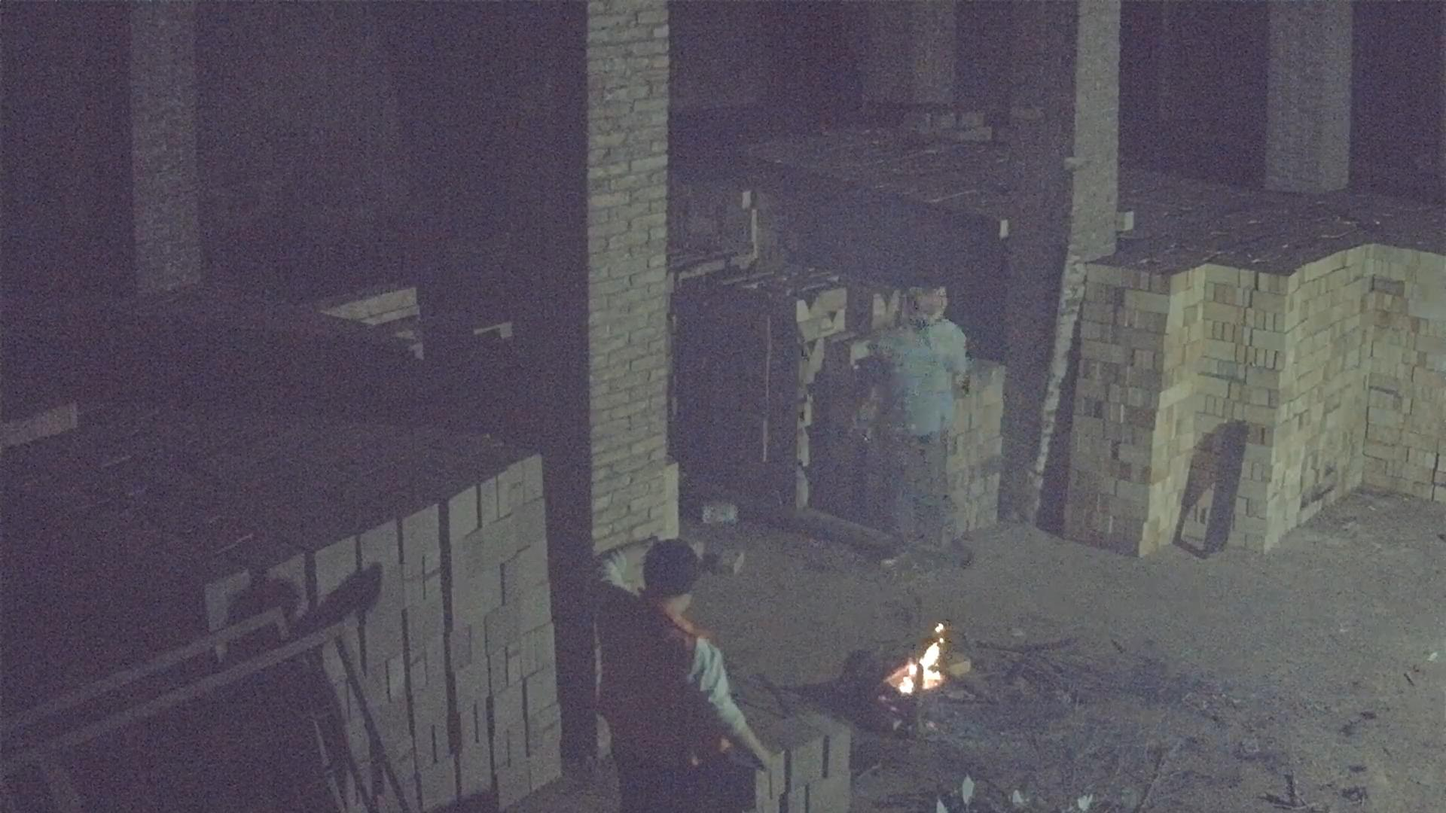fire: (892, 623, 946, 694)
